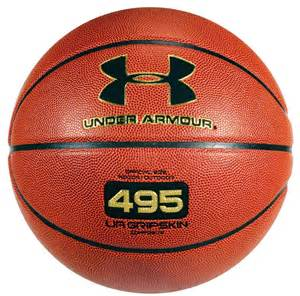basketball: (8, 6, 297, 296)
